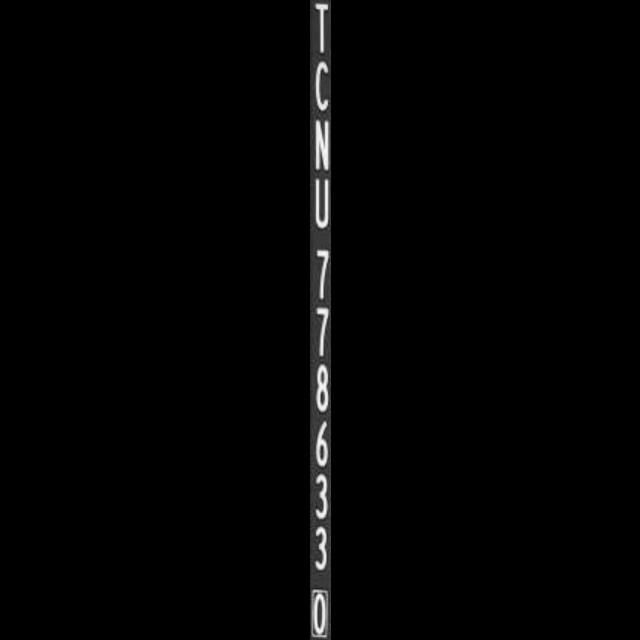0: (310, 586, 330, 640)
3: (310, 468, 330, 522), (310, 524, 330, 576)
6: (310, 418, 330, 467)
7: (310, 302, 330, 358), (310, 246, 330, 296)
8: (310, 358, 330, 416)
c: (310, 51, 330, 112)
n: (310, 115, 330, 175)
t: (310, 0, 330, 58)
u: (310, 174, 330, 230)
